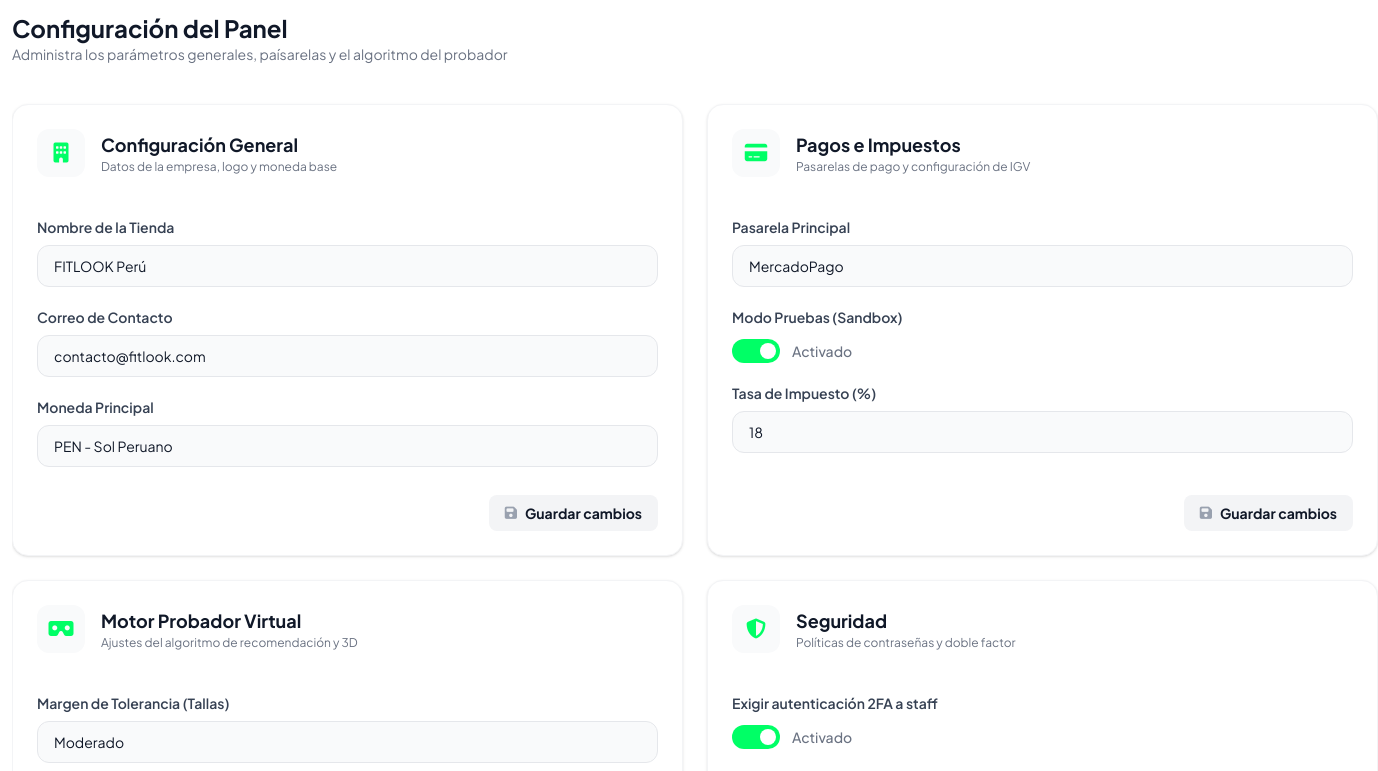
Test: AdminSettingsView › alterna el modo de pruebas de pagos
Expected: the text "Activado" below "Modo Pruebas (Sandbox)" is shown, 792,342 -> 852,360
Click the button without text below "Modo Pruebas (Sandbox)" at [756, 351], box 732,339 -> 780,363
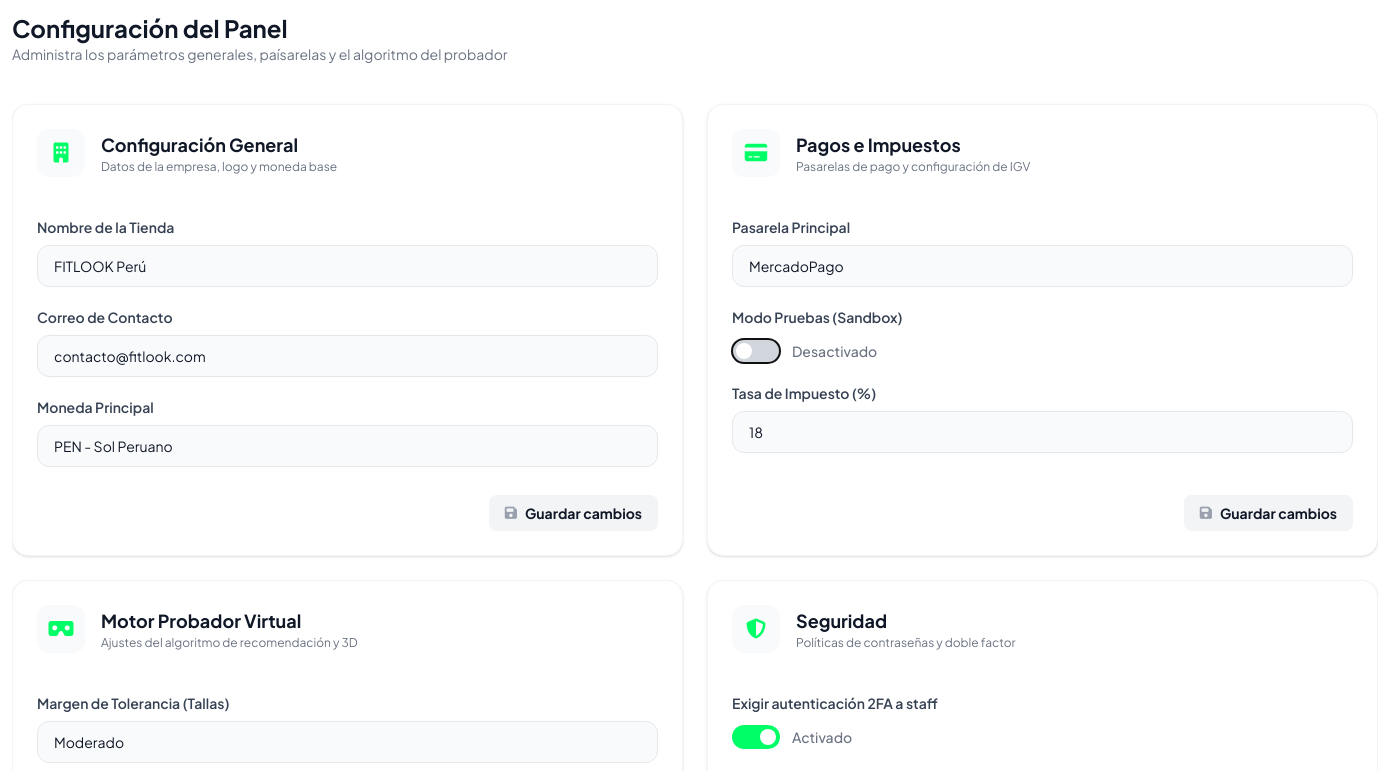
Result: the text "Desactivado" is shown at 792,341 -> 877,361
